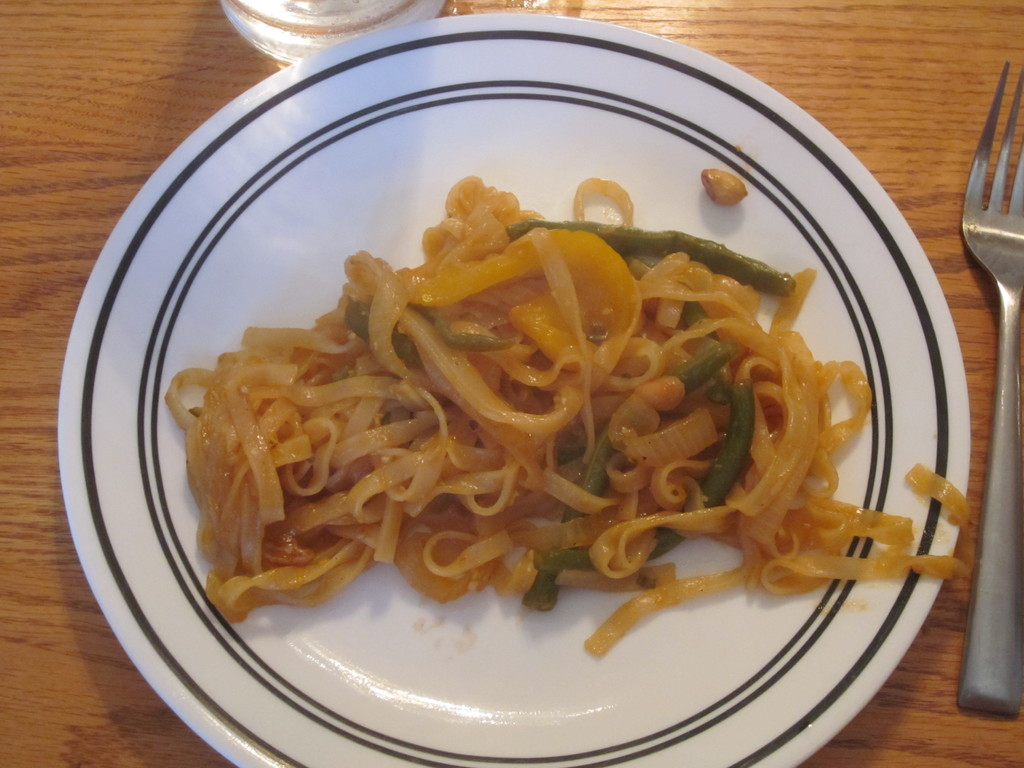pasta: (161, 173, 977, 653)
